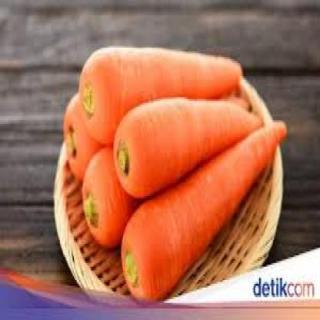Wortel: (121, 120, 288, 304), (79, 46, 245, 147), (113, 97, 266, 198), (81, 149, 140, 252)
